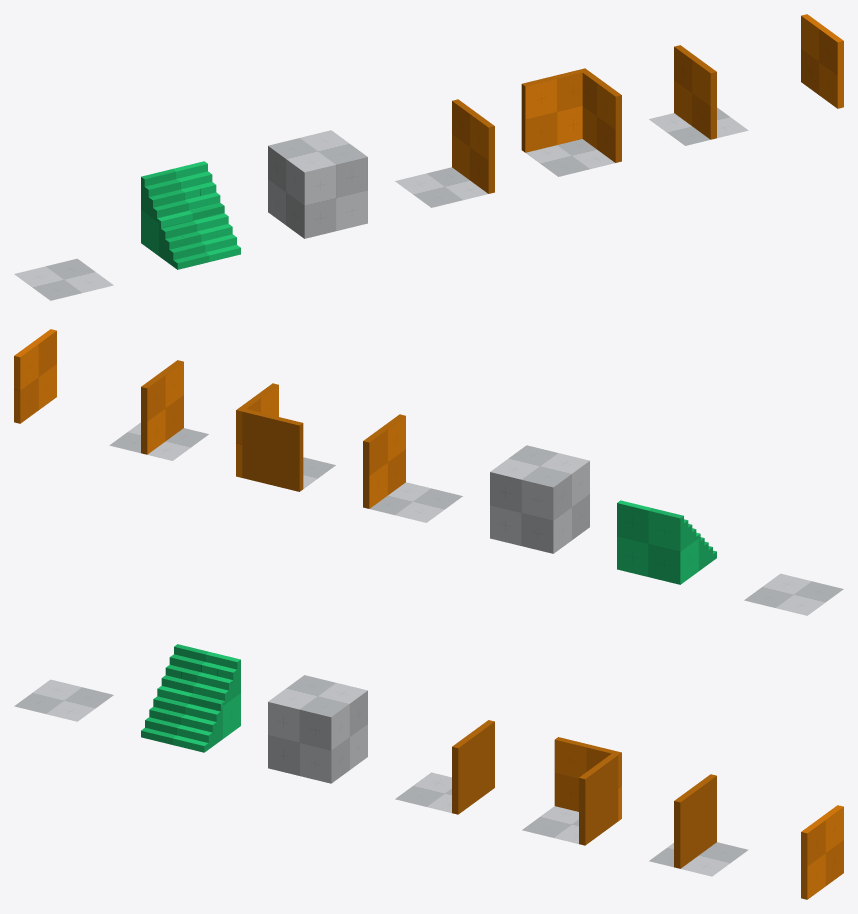
The model's file is prototype-tileset.glb.
3 renders of one model, top to bottom at view 1: azimuth 30°, elevation 25°; view 2: azimuth 150°, elevation 25°; view 3: azimuth 330°, elevation 25°, orthographic.
Visible parts, largest first — view 1: flat_cube-col.004, flat_cube-col, flat_cube-col.001, flat_cube-col.003, flat_cube-col.005, flat_cube-col.006, flat_cube-col.002; view 2: flat_cube-col, flat_cube-col.004, flat_cube-col.001, flat_cube-col.003, flat_cube-col.005, flat_cube-col.006, flat_cube-col.002; view 3: flat_cube-col, flat_cube-col.001, flat_cube-col.004, flat_cube-col.005, flat_cube-col.003, flat_cube-col.006, flat_cube-col.002.
Boxes of the visible parts, box(x1,y1,x2,y2) form: flat_cube-col.004: box(521, 68, 621, 176); flat_cube-col: box(268, 130, 367, 238); flat_cube-col.001: box(141, 161, 240, 269); flat_cube-col.003: box(395, 99, 494, 207); flat_cube-col.005: box(649, 45, 748, 145); flat_cube-col.006: box(801, 14, 843, 108); flat_cube-col.002: box(14, 258, 113, 300); flat_cube-col: box(490, 445, 589, 553); flat_cube-col.004: box(236, 383, 335, 491); flat_cube-col.001: box(617, 500, 716, 584); flat_cube-col.003: box(363, 414, 462, 522); flat_cube-col.005: box(109, 360, 208, 460); flat_cube-col.006: box(14, 329, 56, 423); flat_cube-col.002: box(744, 573, 843, 615); flat_cube-col: box(268, 675, 367, 783); flat_cube-col.001: box(141, 644, 240, 752); flat_cube-col.004: box(522, 737, 621, 845); flat_cube-col.005: box(649, 774, 748, 876); flat_cube-col.003: box(395, 720, 494, 814); flat_cube-col.006: box(801, 805, 843, 899); flat_cube-col.002: box(14, 679, 113, 721).
Bounding box in the file's own units: 12.5 × 1 × 1.
Materials: 3 (3 with a texture image).
